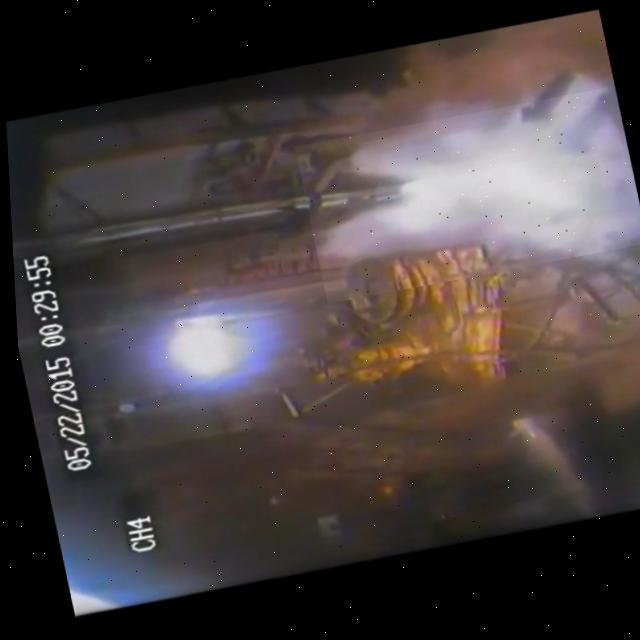spillage: (294, 90, 640, 304)
